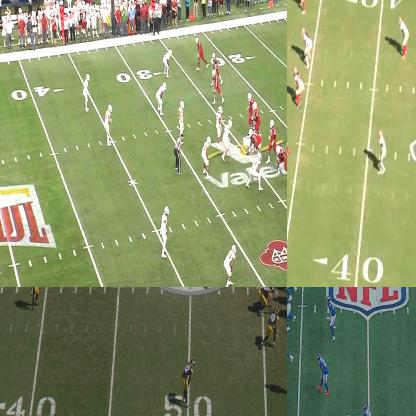CENTER: (248, 130, 261, 151)
DB: (182, 358, 195, 408), (223, 242, 235, 286), (316, 354, 328, 396), (398, 17, 410, 54), (164, 204, 172, 257), (378, 131, 386, 175), (105, 104, 113, 146), (82, 73, 90, 113), (163, 47, 172, 79), (359, 401, 376, 415), (32, 287, 41, 310), (287, 111, 291, 153), (295, 0, 306, 13)
LB: (263, 306, 280, 346), (293, 65, 303, 112), (300, 31, 312, 67), (328, 297, 338, 339), (201, 135, 211, 174), (176, 102, 187, 132)
SKILL: (156, 81, 167, 117), (196, 36, 208, 68), (211, 70, 223, 100), (212, 51, 218, 70)
